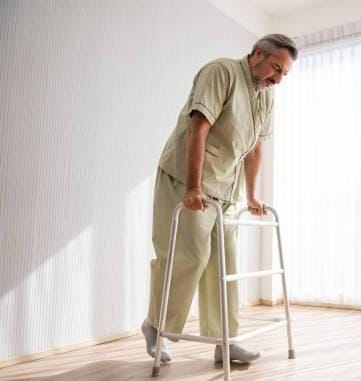walking: (100, 22, 317, 381)
